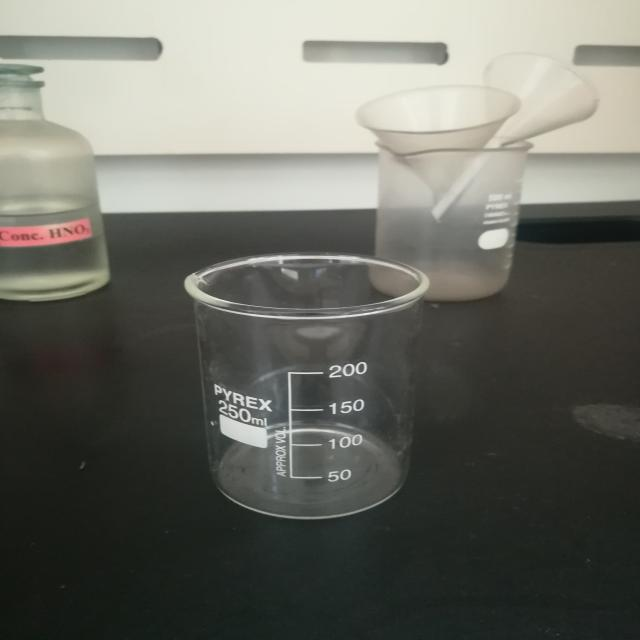Beaker: (170, 221, 459, 541)
Reagent_Bottle: (0, 34, 146, 315)
